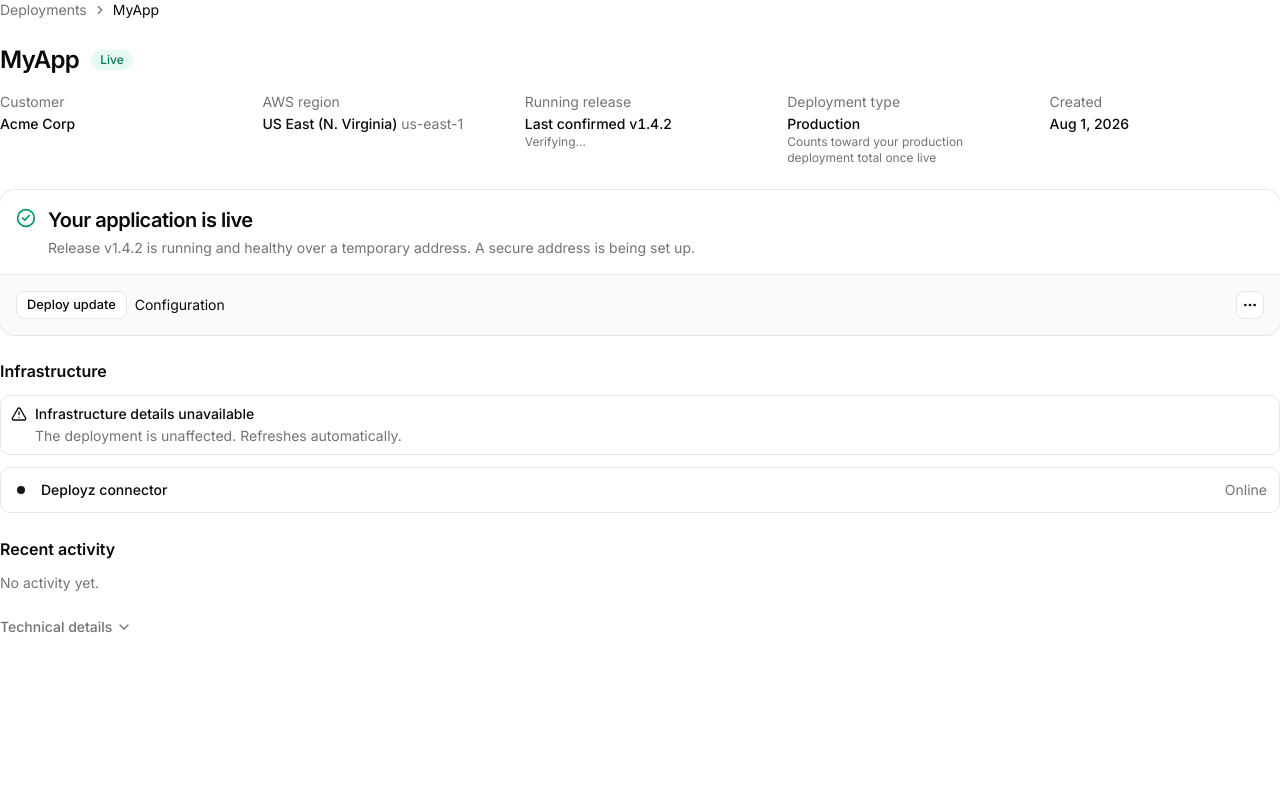
Test case: Deploy update dialog › refetches releases each time the dialog opens and offers the newer release
Click the button "Deploy update" at (71, 305), box [16,291,127,319]
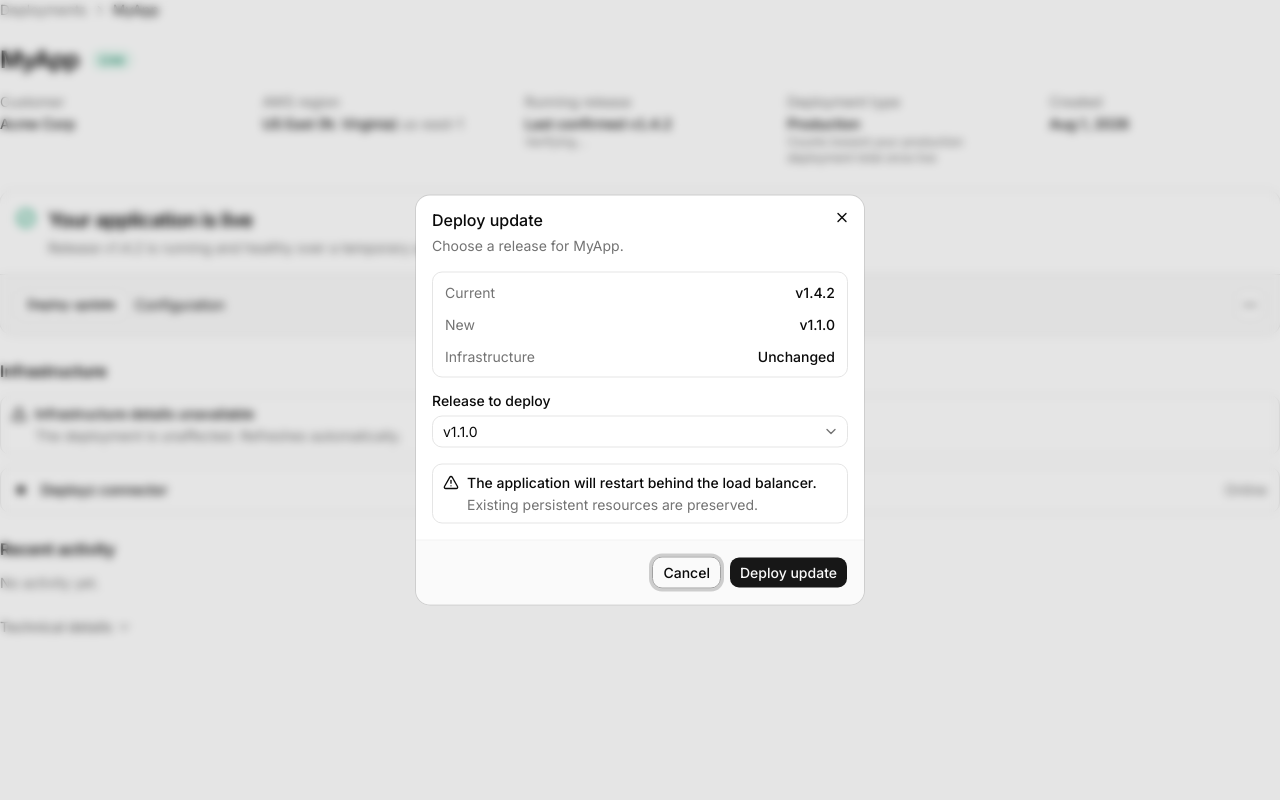
Now the text "v1.1.0" is shown, box [799,314,835,334]
